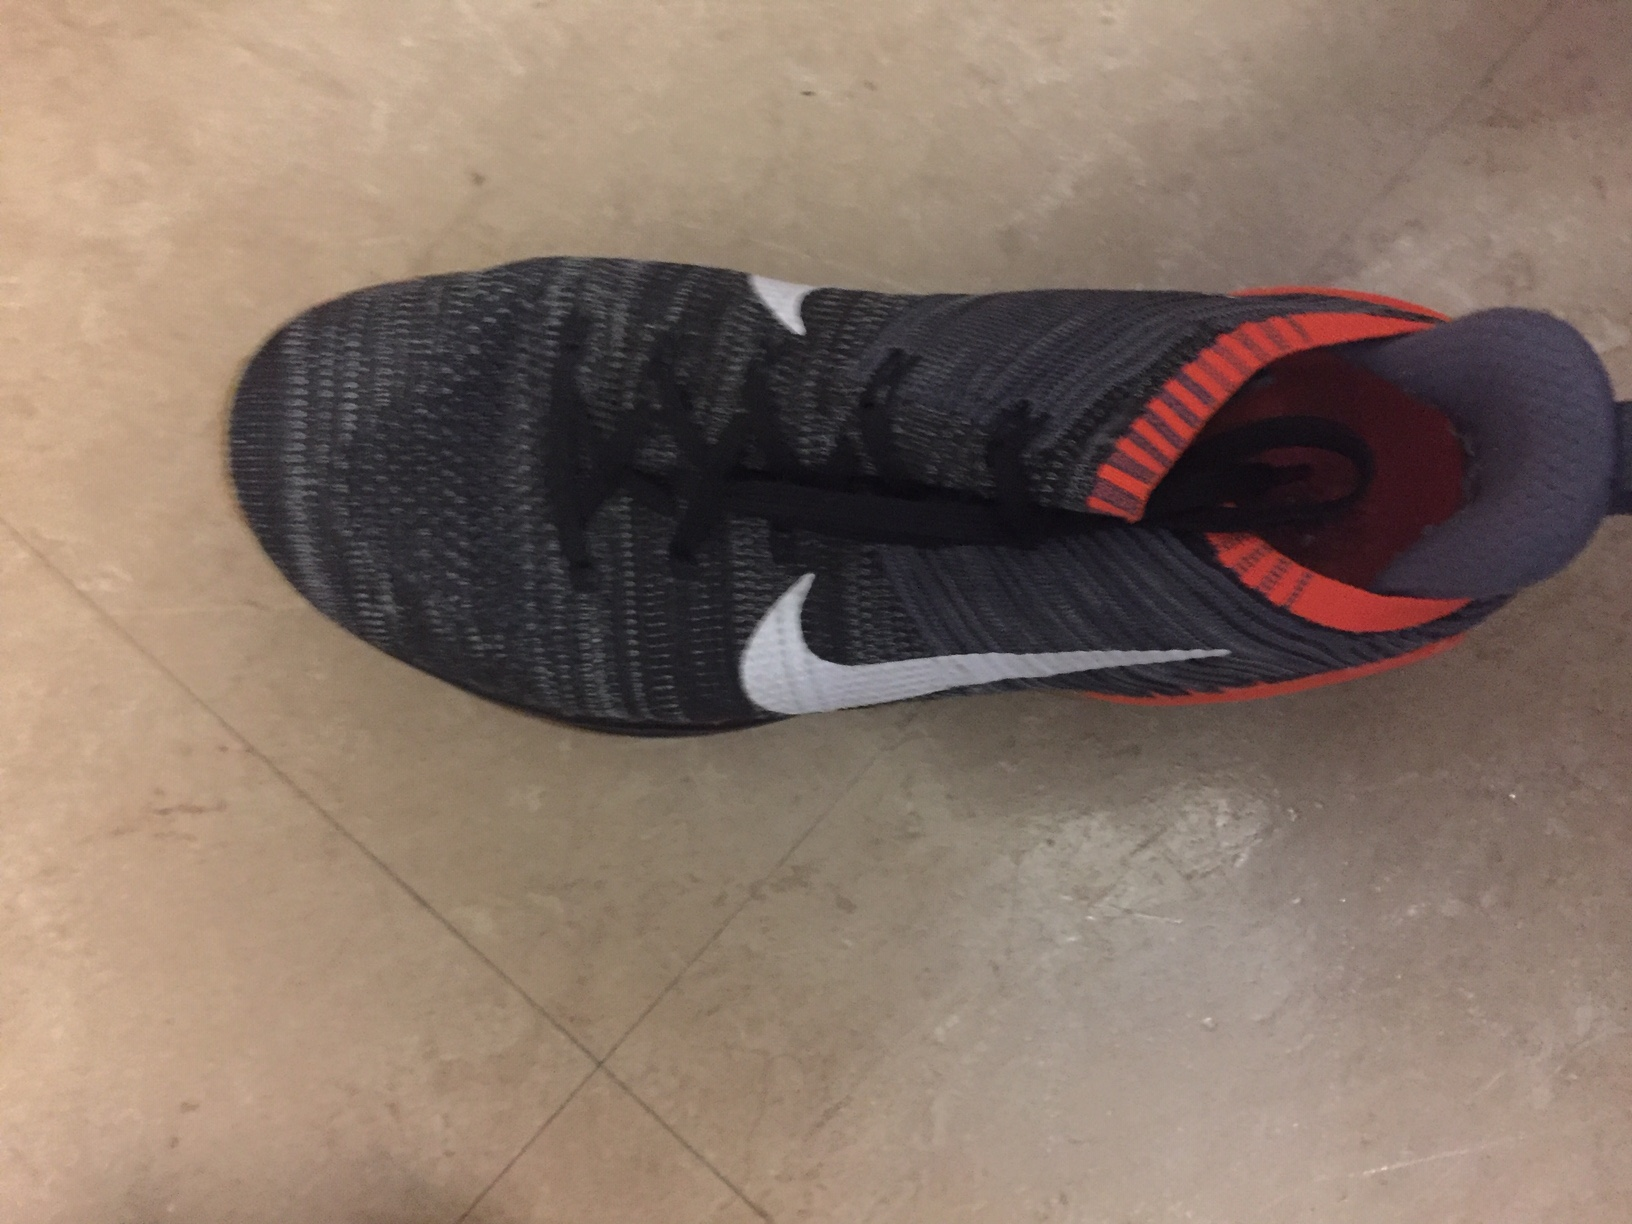car: (211, 253, 1632, 744)
